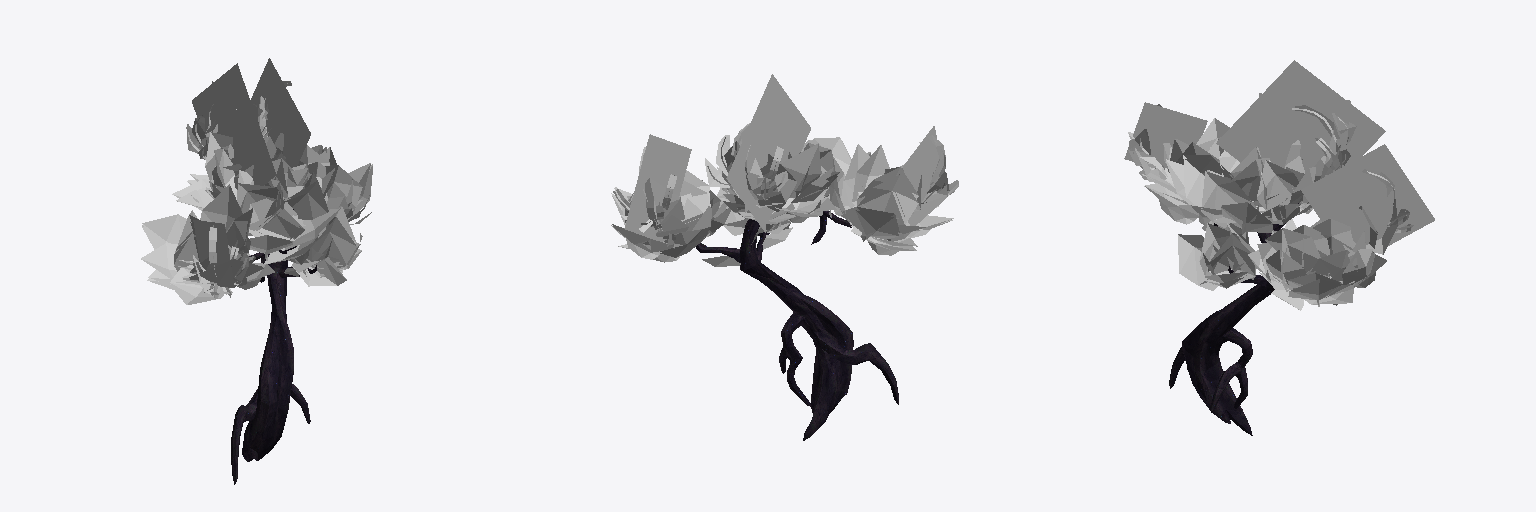
The picture shows the model from 3 angles: view 1: azimuth 30°, elevation 25°; view 2: azimuth 150°, elevation 25°; view 3: azimuth 270°, elevation 25°; orthographic projection.
Visible parts, largest first — view 1: 9ARD_Celestial_LatticeTree_C03; view 2: 9ARD_Celestial_LatticeTree_C03; view 3: 9ARD_Celestial_LatticeTree_C03.
Boxes of the visible parts, x1=… form: 9ARD_Celestial_LatticeTree_C03: x1=141, y1=58, x2=372, y2=484; 9ARD_Celestial_LatticeTree_C03: x1=611, y1=74, x2=958, y2=440; 9ARD_Celestial_LatticeTree_C03: x1=1124, y1=60, x2=1434, y2=435.
Size of the model in its own units: 54.85 by 72.69 by 53.89.
5 materials, 1 textured.